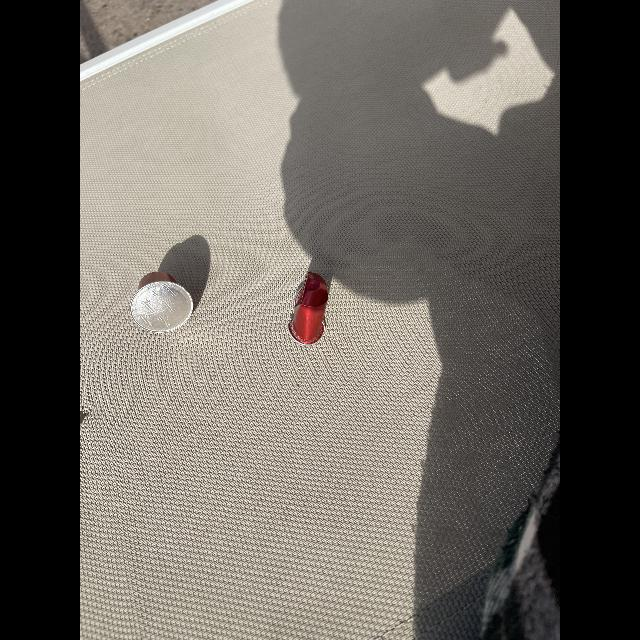damaged_capsule: (284, 270, 332, 348)
intact_capsule: (128, 266, 196, 336)
